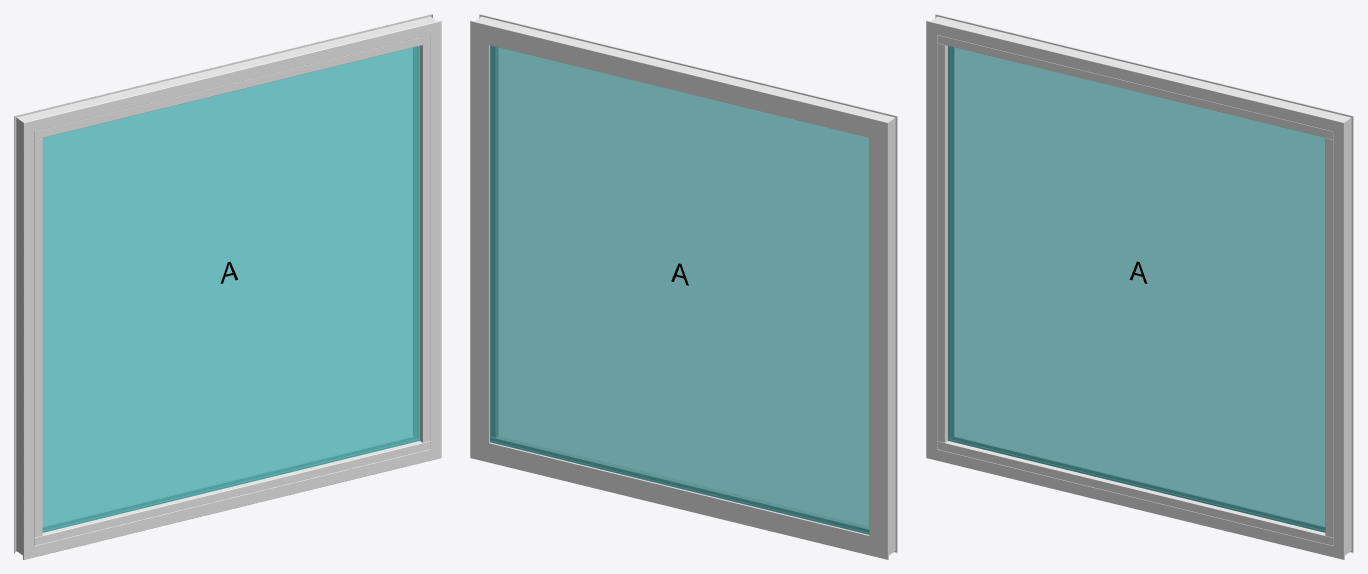
3 renders of one model, left to right at view 1: azimuth 30°, elevation 25°; view 2: azimuth 150°, elevation 25°; view 3: azimuth 330°, elevation 25°, orthographic.
Visible parts, largest first — view 1: G1, PP15 (×3), PP6 (×2), PP13 (×2), PP3 (×2), PP7, PP9, PP8, PP10; view 2: G1, PP15 (×3), PP6 (×2), PP3, PP13, PP9 (×2), PP7 (×2); view 3: G1, PP15 (×3), PP13 (×2), PP6 (×2), PP3 (×2), PP7, PP8, PP9, PP10.
Boxes of the visible parts, x1=… form: G1: x1=42, y1=46, x2=419, y2=532; PP15 (×3): x1=15, y1=14, x2=441, y2=131; PP6 (×2): x1=15, y1=116, x2=34, y2=559; PP13 (×2): x1=414, y1=14, x2=441, y2=457; PP3 (×2): x1=15, y1=436, x2=440, y2=559; PP7: x1=35, y1=441, x2=430, y2=545; PP9: x1=420, y1=43, x2=430, y2=442; PP8: x1=34, y1=138, x2=42, y2=537; PP10: x1=35, y1=35, x2=430, y2=139; G1: x1=490, y1=45, x2=869, y2=534; PP15 (×3): x1=470, y1=14, x2=896, y2=137; PP6 (×2): x1=869, y1=116, x2=896, y2=559; PP3: x1=471, y1=442, x2=887, y2=559; PP13: x1=470, y1=21, x2=489, y2=457; PP9 (×2): x1=490, y1=45, x2=498, y2=437; PP7 (×2): x1=490, y1=436, x2=868, y2=534; G1: x1=948, y1=46, x2=1325, y2=532; PP15 (×3): x1=926, y1=14, x2=1352, y2=131; PP13 (×2): x1=1333, y1=116, x2=1352, y2=559; PP6 (×2): x1=926, y1=14, x2=953, y2=457; PP3 (×2): x1=927, y1=436, x2=1352, y2=559; PP7: x1=937, y1=441, x2=1332, y2=545; PP8: x1=937, y1=43, x2=947, y2=442; PP9: x1=1325, y1=138, x2=1333, y2=537; PP10: x1=937, y1=35, x2=1332, y2=139.
Size of the model in its own units: 1 by 1 by 0.04.
